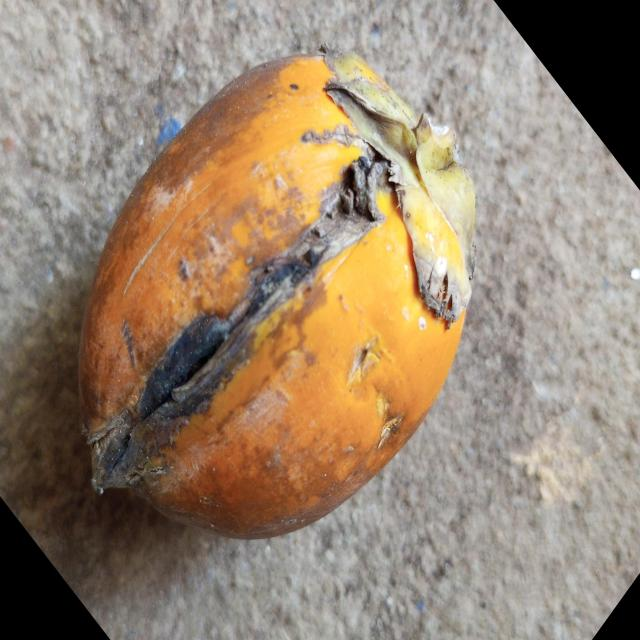damaged: (76, 55, 478, 543)
